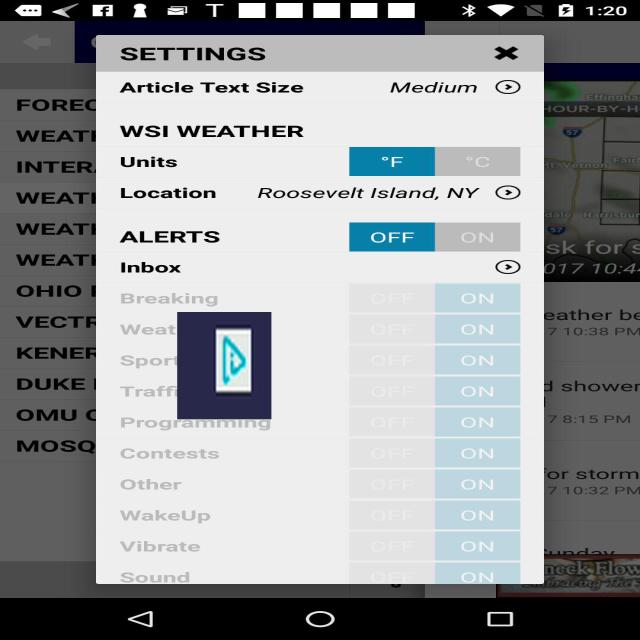sneaking: (178, 312, 272, 419)
